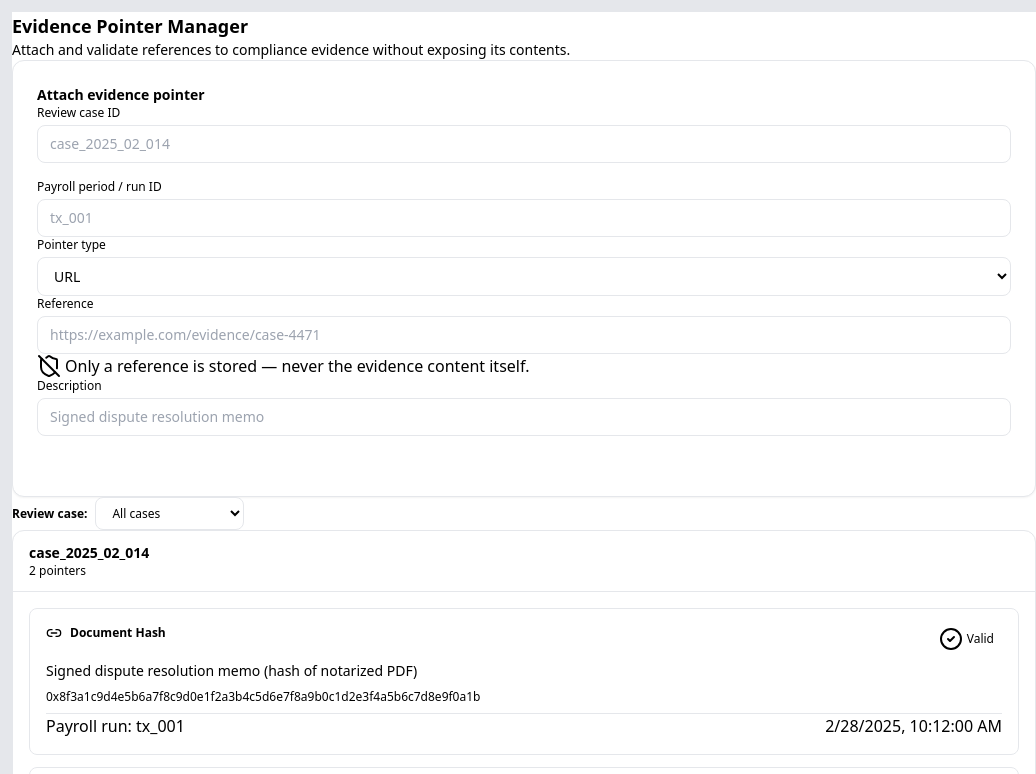
Test: EvidencePointerManager › shows a validation error and marks the pointer invalid for a malformed URL
In the field labelled "Review case ID": (524,144) 37,125 -> 1011,163, type "case_2025_04_002"
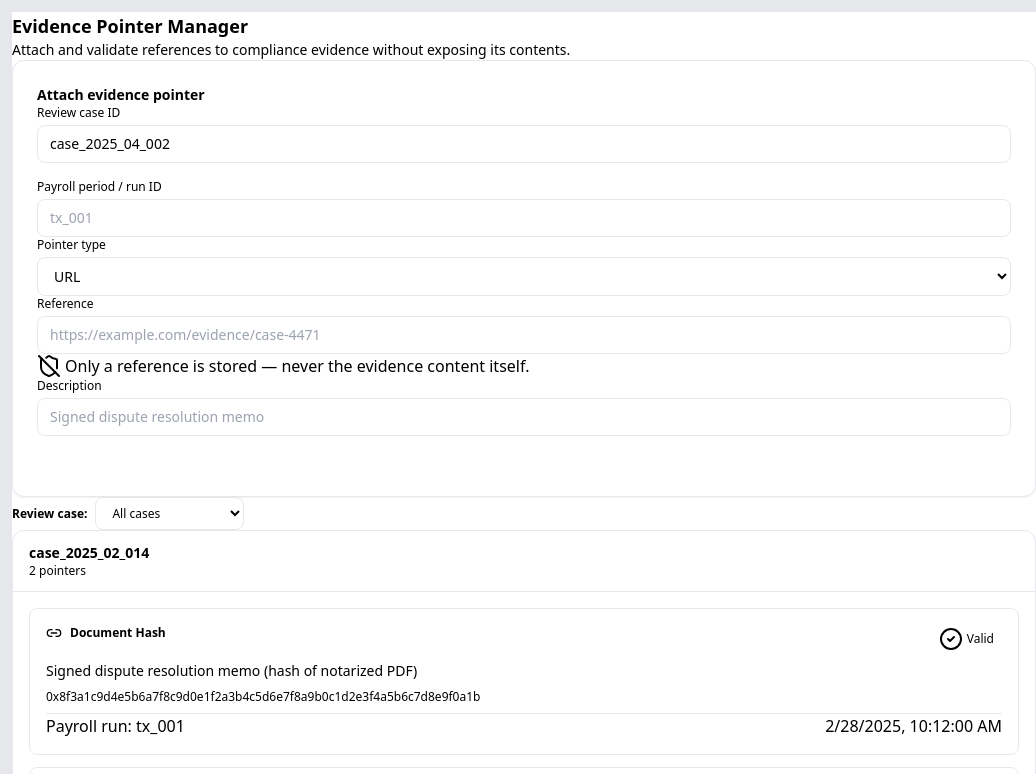
In the field labelled "Payroll period / run ID": (524,218) 37,199 -> 1011,237, type "tx_011"
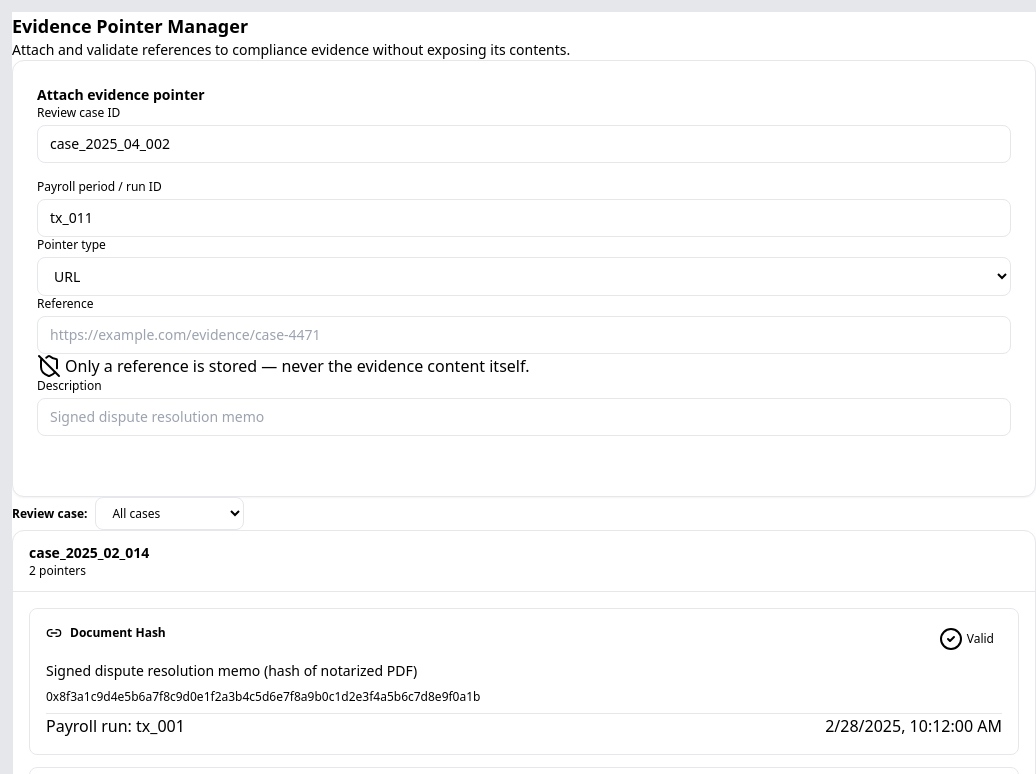
In the field labelled "Reference": (524,335) 37,316 -> 1011,354, type "not-a-valid-url"
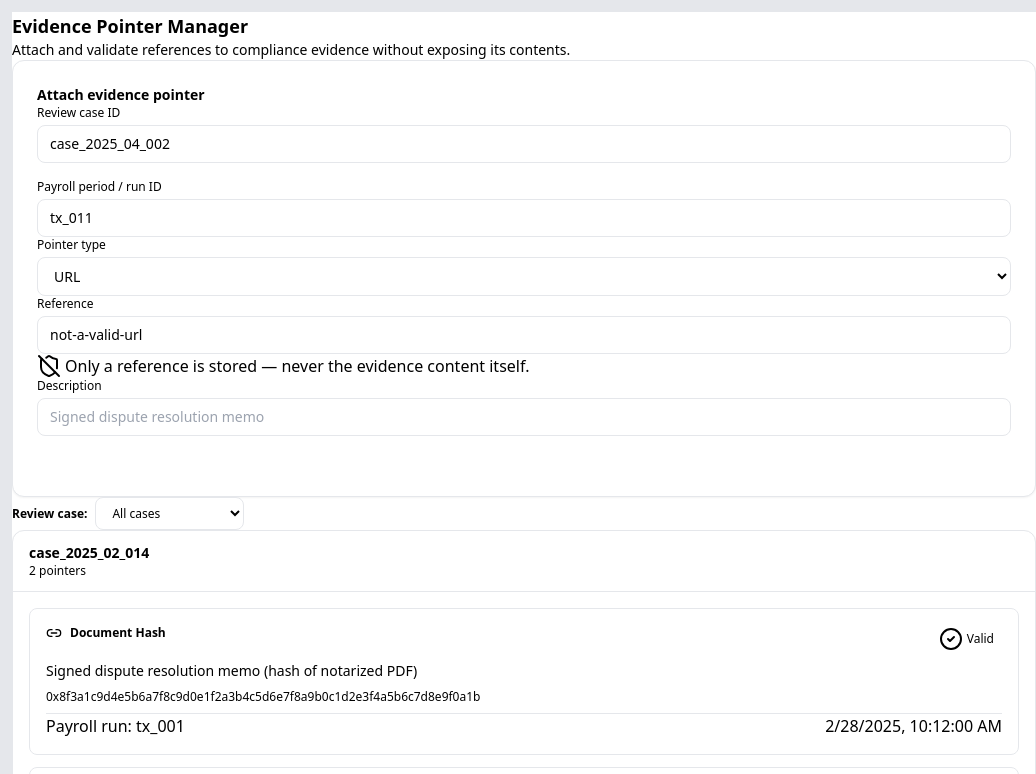
In the field labelled "Description": (524,417) 37,398 -> 1011,436, type "Broken evidence link"
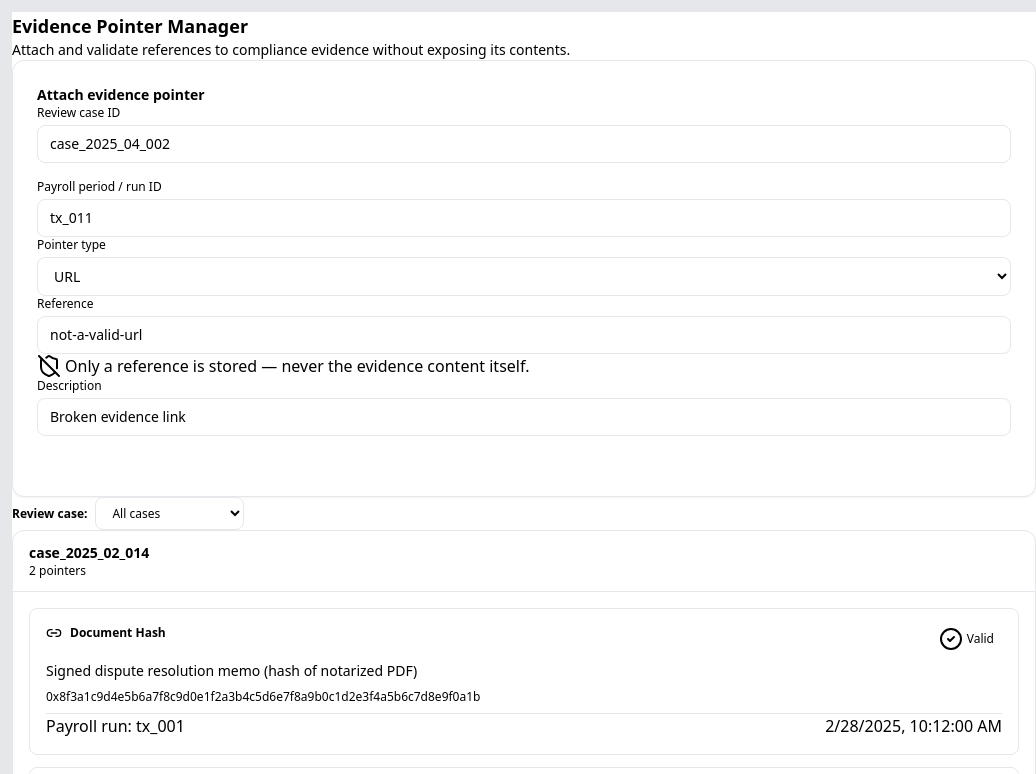
Click the button "Add pointer": (103,454) 37,436 -> 169,472
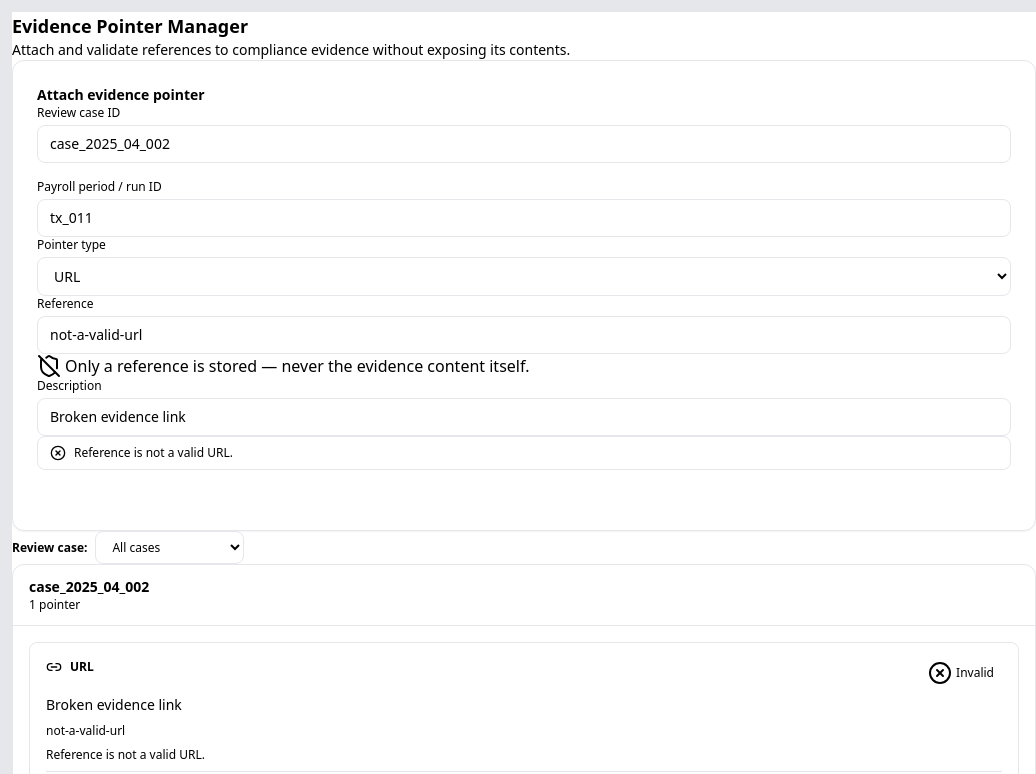
Check: the message shows "not a valid URL", box 74,444 -> 233,461
